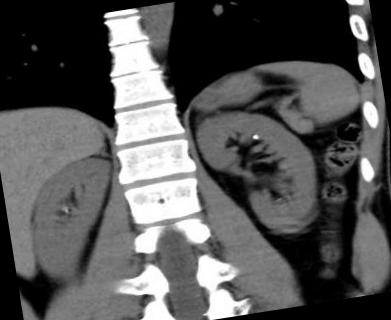Tas_Var: (60, 204, 70, 215), (250, 132, 259, 142)
